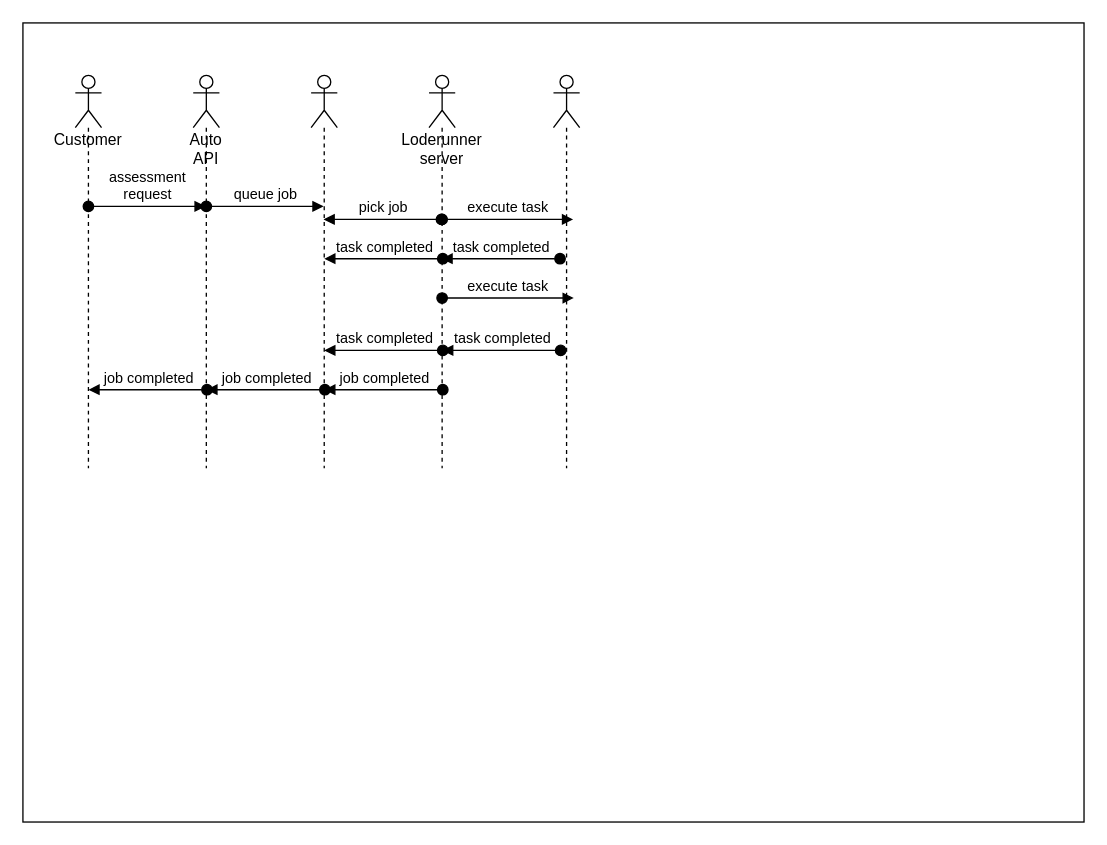
The diagram is 1107 pixels wide and 845 high, and some of its shapes have lost their labels. The shapes that lost their labels are listed below. From the top down, each one's centre as x and y in pixels, then its label:
point (323, 271): Platform API
point (566, 271): Loderunner worker
